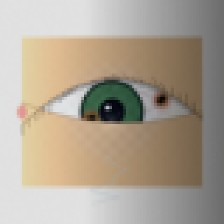foreign_body_visible: (67, 100, 115, 138)
